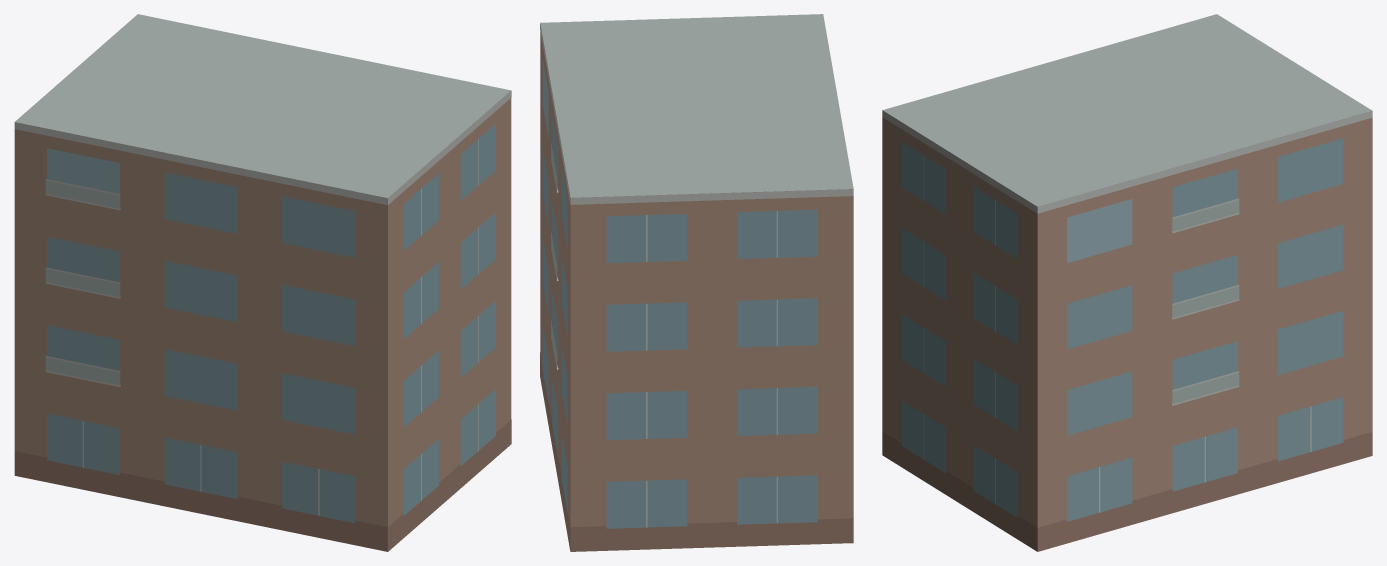
File: residential-8a4bc080-6523-4c63-ae69-0fb7d13a9892.glb
3 renders of one model, left to right at view 1: azimuth 30°, elevation 25°; view 2: azimuth 150°, elevation 25°; view 3: azimuth 270°, elevation 25°, orthographic. The views are drawn at different scales.
Visible parts, largest first — view 1: residential-8a4bc080-6523-4c63-ae69-0fb7d13a9892.tmp; view 2: residential-8a4bc080-6523-4c63-ae69-0fb7d13a9892.tmp; view 3: residential-8a4bc080-6523-4c63-ae69-0fb7d13a9892.tmp.
Part boxes in pixels (x1=…): residential-8a4bc080-6523-4c63-ae69-0fb7d13a9892.tmp: x1=14, y1=14, x2=511, y2=551; residential-8a4bc080-6523-4c63-ae69-0fb7d13a9892.tmp: x1=540, y1=14, x2=853, y2=551; residential-8a4bc080-6523-4c63-ae69-0fb7d13a9892.tmp: x1=882, y1=14, x2=1372, y2=551.
Size of the model in its own units: 14.63 by 12.2 by 15.72.
